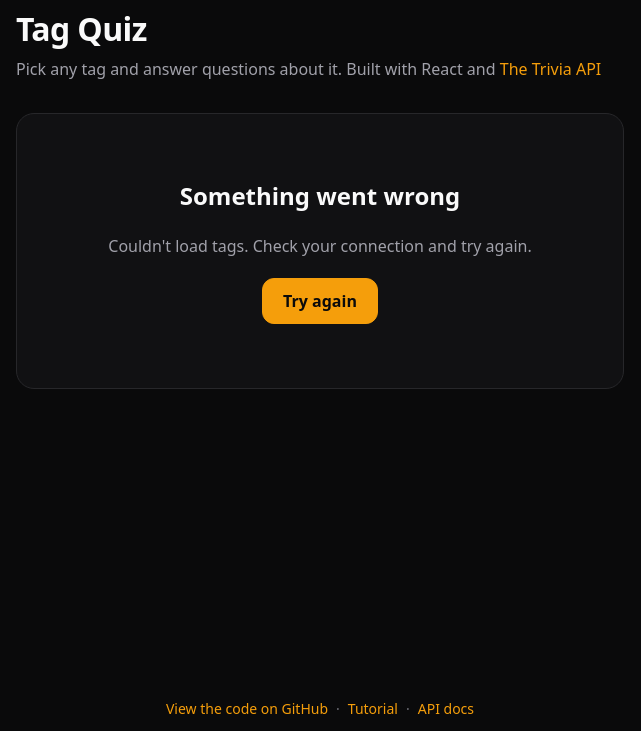
Test case: App › shows an error if the tags don't load, and lets the player retry
This screenshot has width=641, height=731.
Check: the message shows "Couldn't load tags", box [108,235,532,257]
Click the button "Try again": (320, 301) [262,278,378,324]
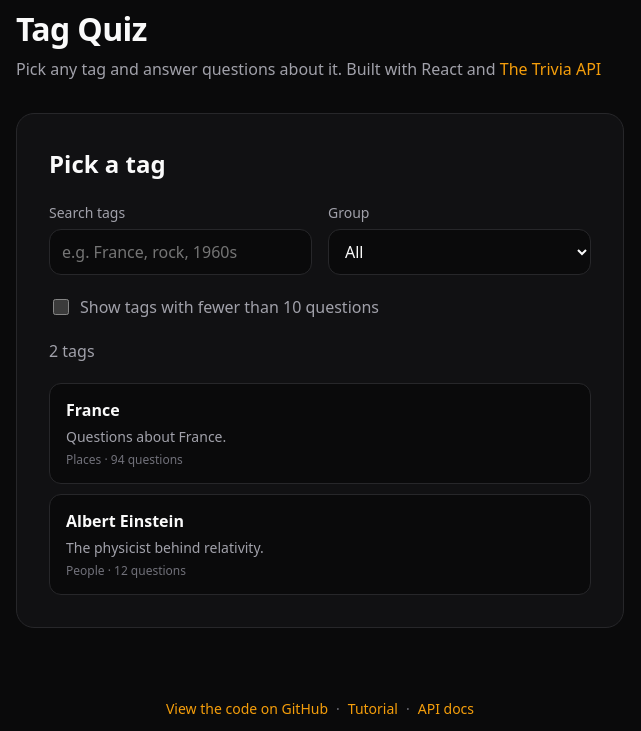
Check: the button "France Questions about France. Places · 94 questions" is shown, box [49,383,591,484]
